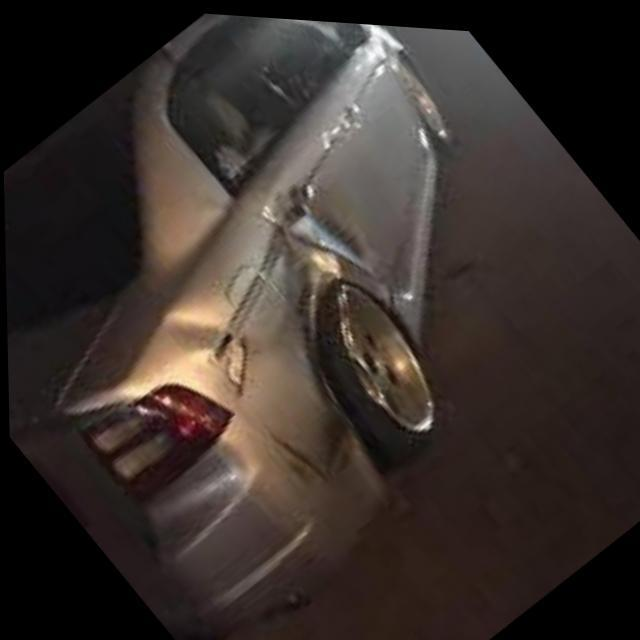crack: (158, 304, 262, 398)
dent: (253, 185, 377, 488)
